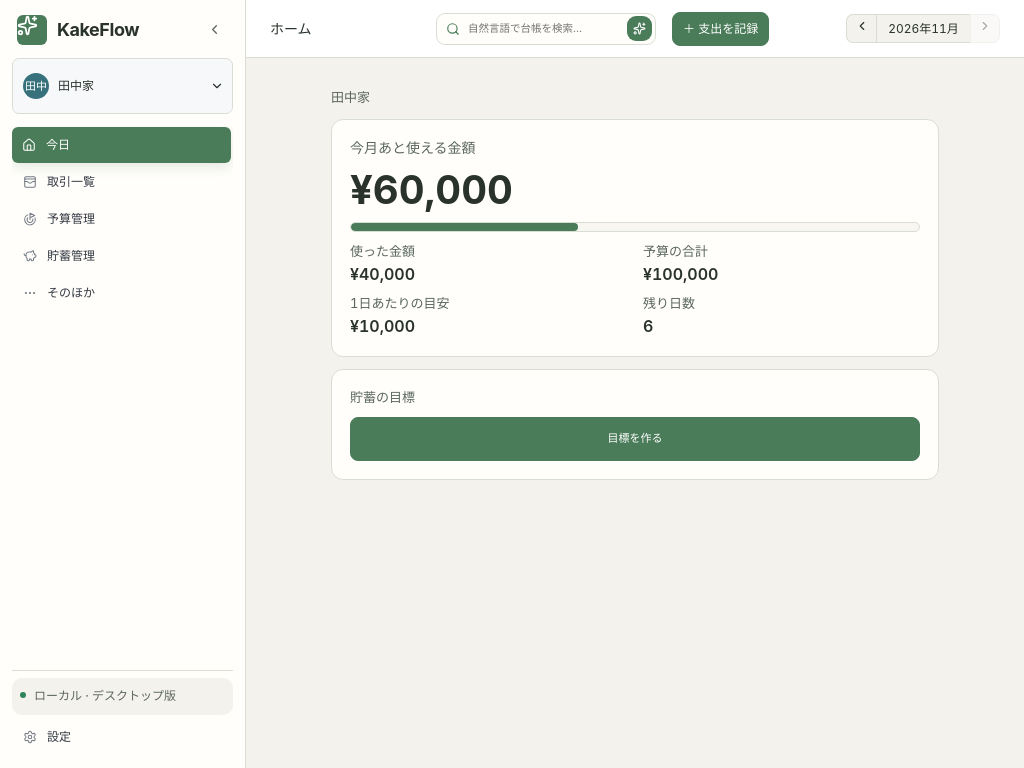
it: Simple mode in the app shell › opens the quick-add sheet from the top bar instead of navigating
Check: the heading "今月あと使える金額" is shown, box [350,139,476,156]
Click the button "＋ 支出を記録" at (721, 28), box [672,12,769,46]
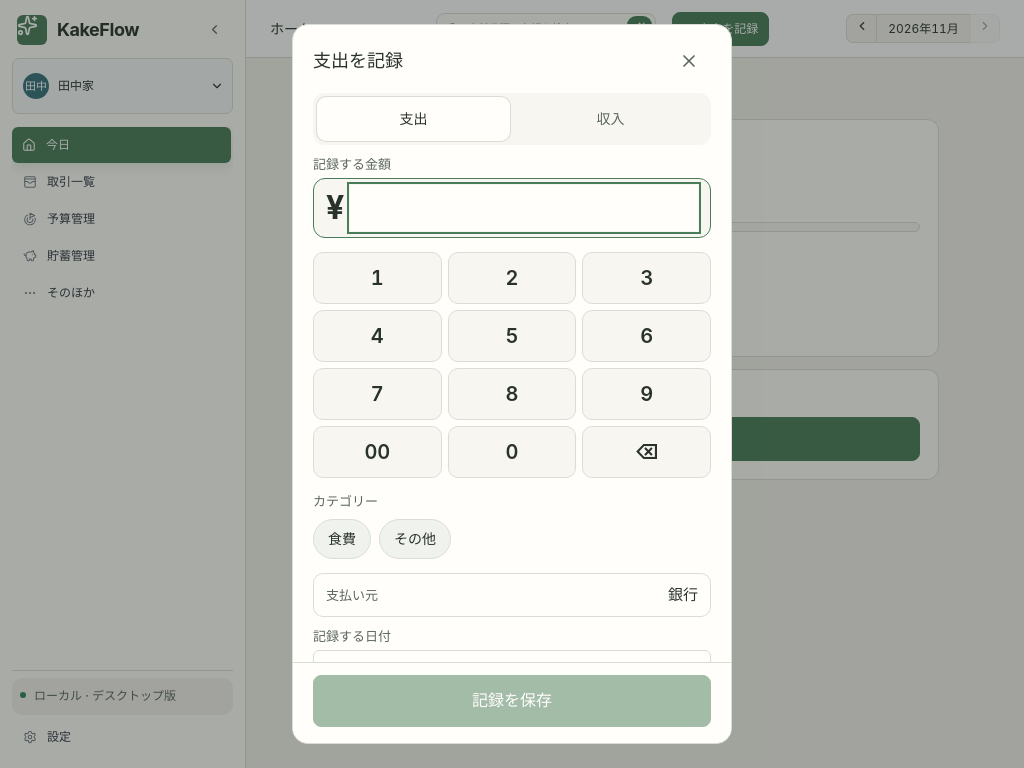
Check: the element with class "simple-home" is shown, box [315,84,955,504]
Check: the dialog "支出を記録" is shown, box [292,24,732,744]
